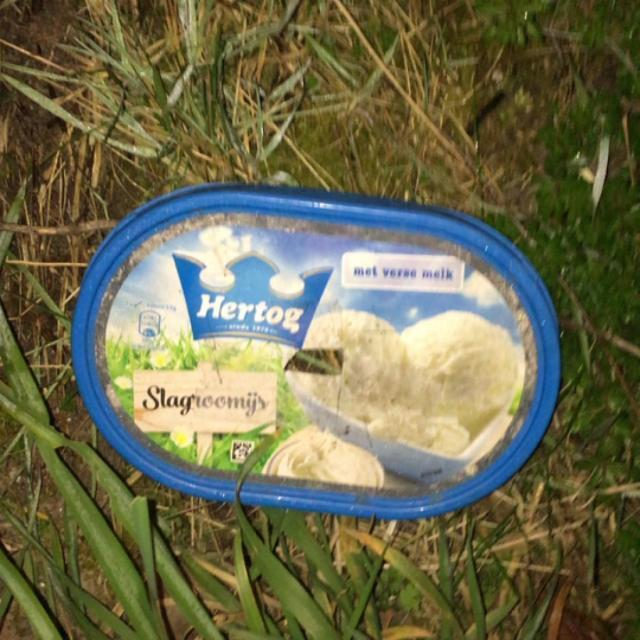Paper: (66, 176, 567, 525)
